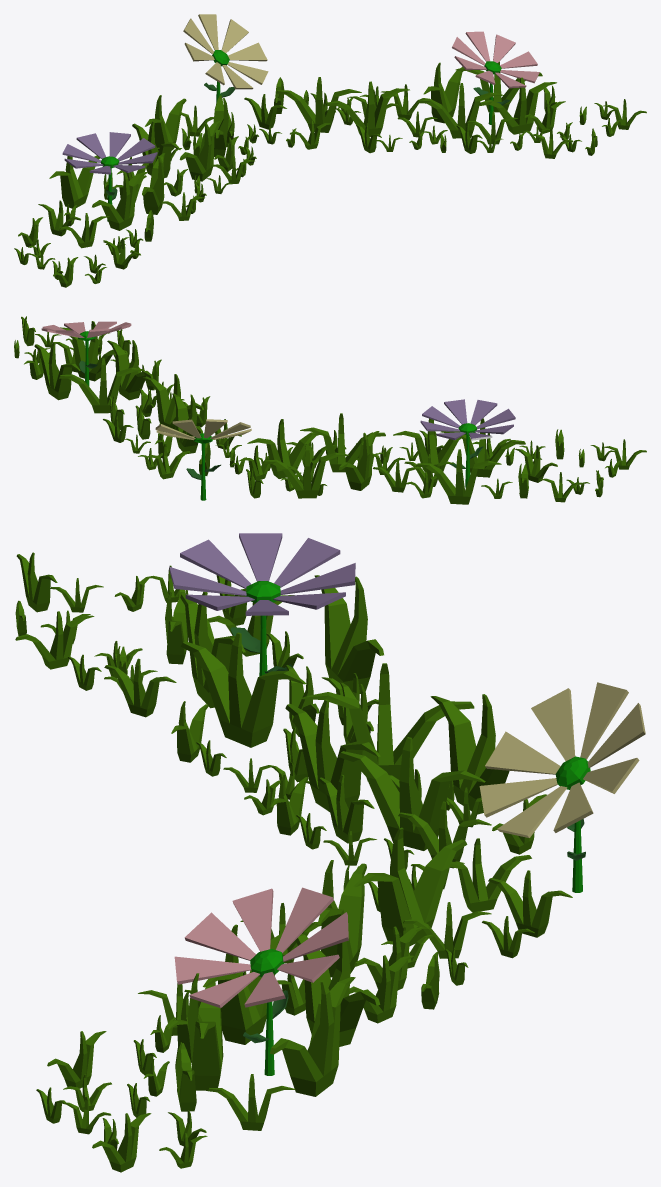
Rendered from hierba_C_B.fbx.
The picture shows the model from 3 angles, top to bottom: view 1: azimuth 30°, elevation 25°; view 2: azimuth 150°, elevation 25°; view 3: azimuth 270°, elevation 25°; orthographic projection. The views are drawn at different scales.
Visible parts, largest first — view 1: Hierba_C_B; view 2: Hierba_C_B; view 3: Hierba_C_B.
Part boxes in pixels (left/top/right/bottom): Hierba_C_B: left=14, top=14, right=646, bottom=287; Hierba_C_B: left=14, top=316, right=646, bottom=504; Hierba_C_B: left=15, top=533, right=645, bottom=1172.
Size of the model in its own units: 156 by 22.89 by 70.25.
